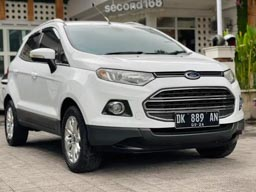plat: (173, 112, 220, 122)
